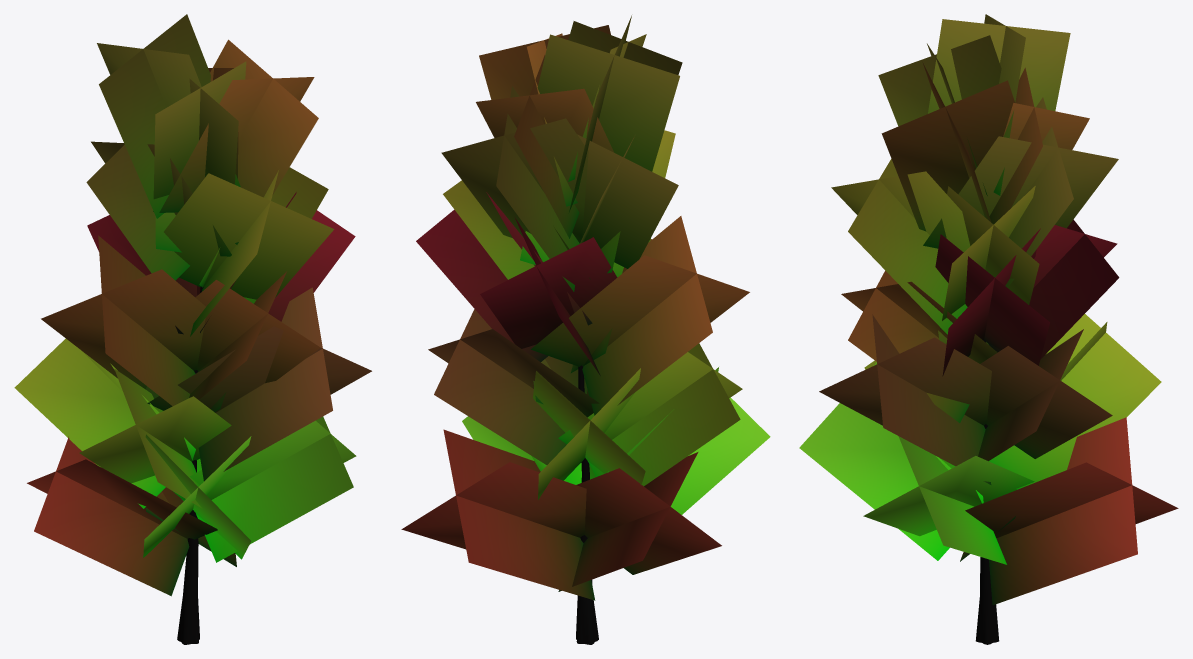
The model's file is S_Tree_10_3.fbx.
3 views of the same model, side by side, from view 1: azimuth 30°, elevation 25°; view 2: azimuth 150°, elevation 25°; view 3: azimuth 270°, elevation 25° (orthographic).
Visible parts, largest first — view 1: S_Tree_10_3; view 2: S_Tree_10_3; view 3: S_Tree_10_3.
Part boxes in pixels (<box>): S_Tree_10_3: <box>14,14,371,644</box>; S_Tree_10_3: <box>401,15,770,644</box>; S_Tree_10_3: <box>799,14,1178,644</box>.
Size of the model in its own units: 1179 by 2348 by 1324.
